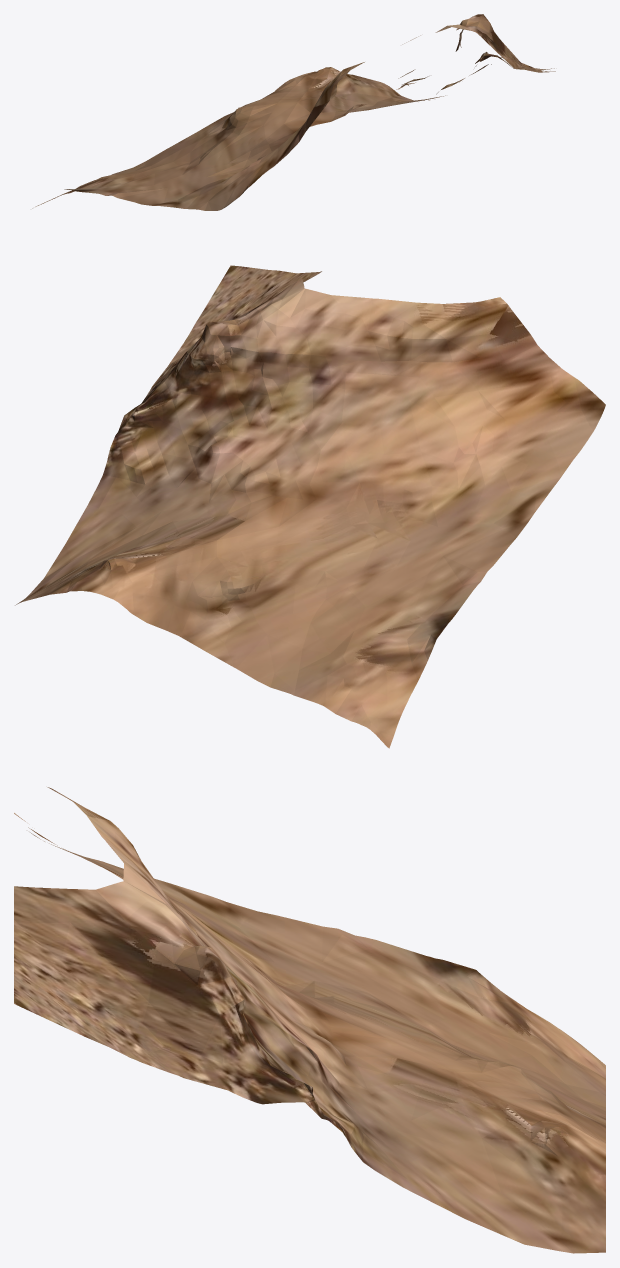
The picture shows the model from 3 angles, top to bottom: view 1: azimuth 30°, elevation 25°; view 2: azimuth 150°, elevation 25°; view 3: azimuth 270°, elevation 25°; orthographic projection. The views are drawn at different scales.
Bounding box in the file's own units: 1.04 × 0.7107 × 1.04.
Materials: 3 (3 with a texture image).
